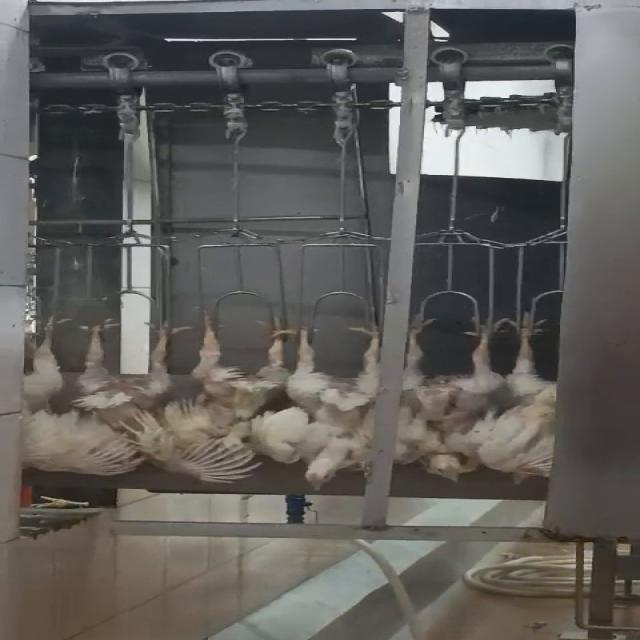chicken: (258, 318, 389, 490), (68, 310, 190, 478), (176, 313, 283, 483), (484, 304, 582, 489), (394, 300, 490, 487), (0, 316, 80, 472)
